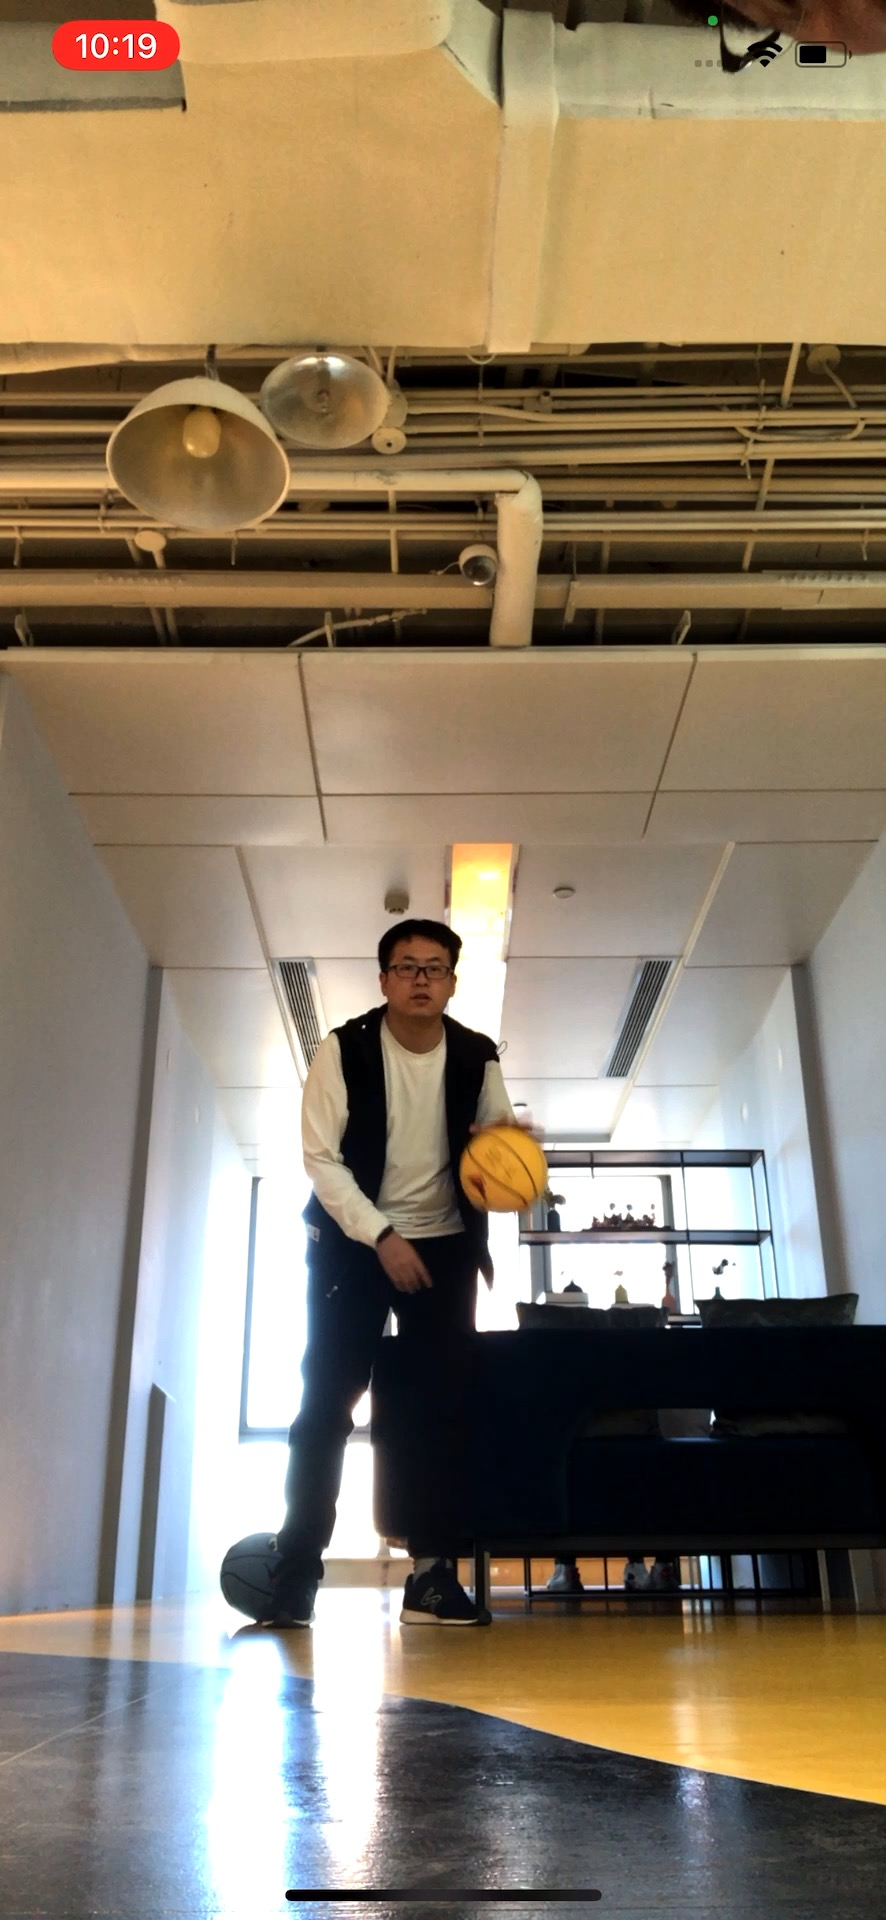ball: (455, 1119, 553, 1223), (221, 1533, 277, 1629)
